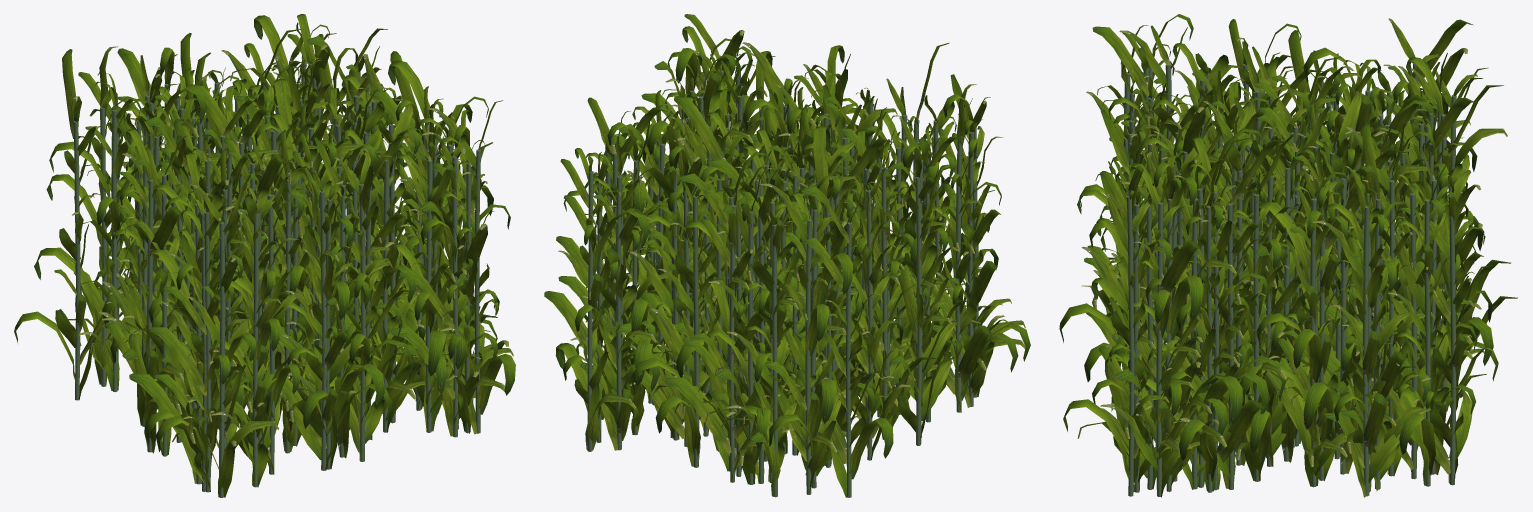
File: milharal9x9_denso.fbx
3 views of the same model, side by side, from view 1: azimuth 30°, elevation 25°; view 2: azimuth 150°, elevation 25°; view 3: azimuth 270°, elevation 25° (orthographic). The views are drawn at different scales.
Parts seen in each view (by area): view 1: Plantacao2; view 2: Plantacao2; view 3: Plantacao2.
Boxes of the visible parts, x1,y1,x2,y2 form: Plantacao2: (14,14,515,497); Plantacao2: (544,14,1030,497); Plantacao2: (1059,14,1517,497).
Bounding box in the file's own units: 1260 × 1082 × 1249.
